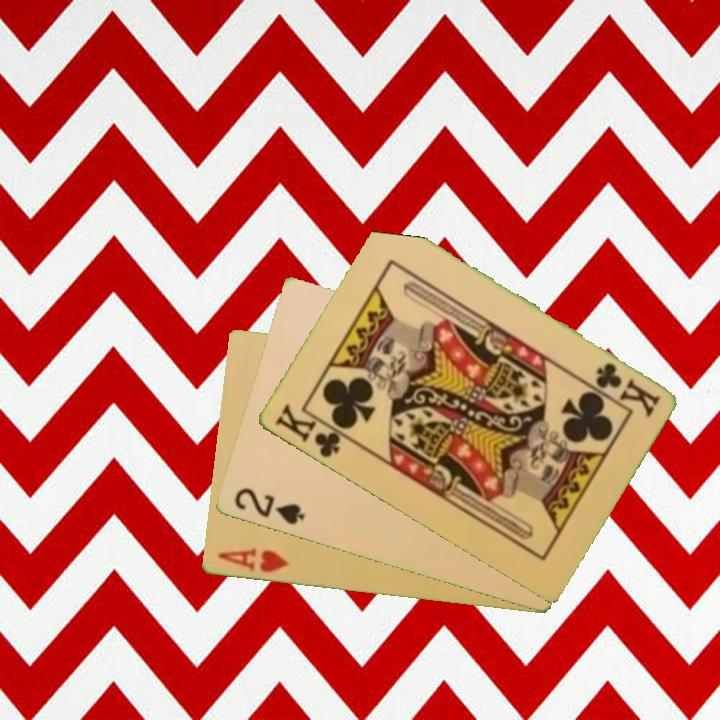2s: (230, 484, 308, 528)
Ah: (213, 545, 291, 576)
Kc: (270, 400, 353, 461), (591, 359, 663, 419)
